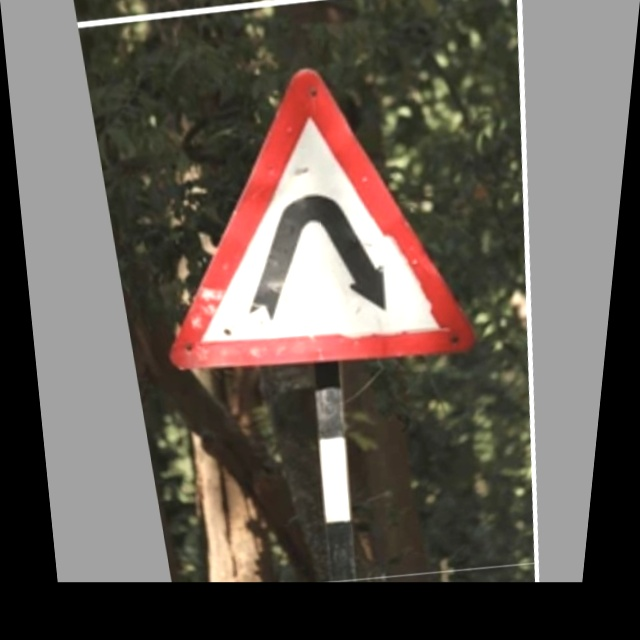Right_Hair_Pin_Bend: (137, 53, 483, 377)
